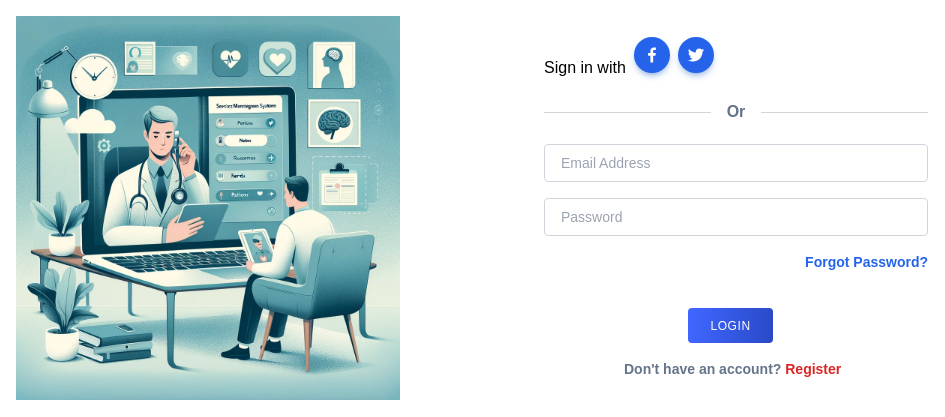
Login Component Tests › shows email error message on invalid email input
The image size is (945, 417).
Type "invalid-email" into the field with placeholder "Email Address" at [736, 163], box top-left (544, 144), bottom-right (928, 182)
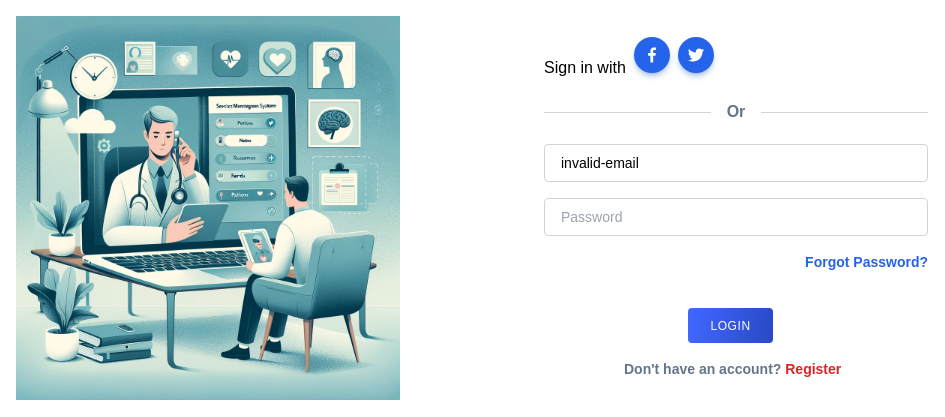
Type "password" into the password field with placeholder "Password" at [736, 217], box top-left (544, 198), bottom-right (928, 236)
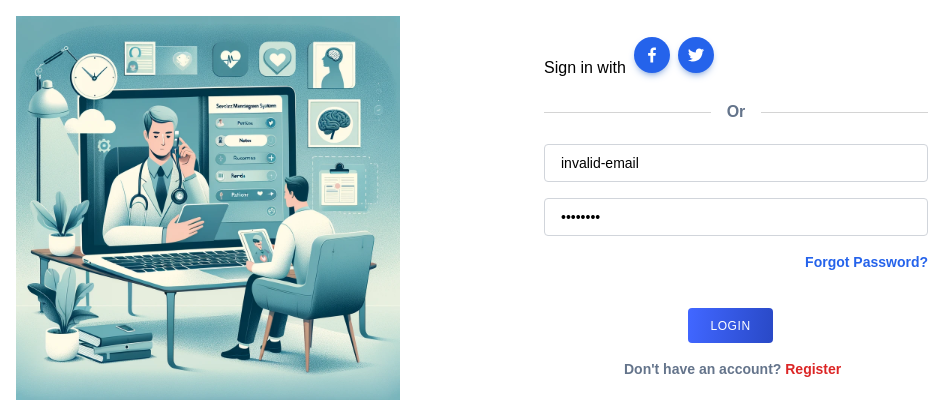
Click the button "Login" at [731, 326], box top-left (688, 308), bottom-right (773, 343)
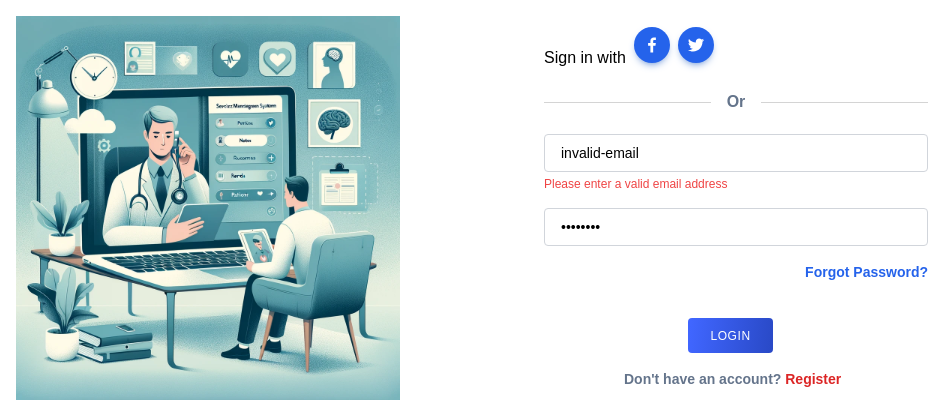
Result: the text "Please enter a valid email address" is shown at top-left (544, 177), bottom-right (727, 191)
